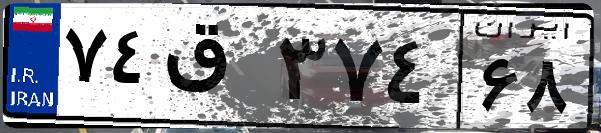3: (270, 28, 330, 110)
4: (385, 28, 445, 110), (110, 28, 158, 98)
6: (475, 38, 525, 113)
7: (330, 28, 385, 110), (57, 26, 110, 100)
8: (525, 38, 570, 115)
ق: (158, 20, 270, 120)
